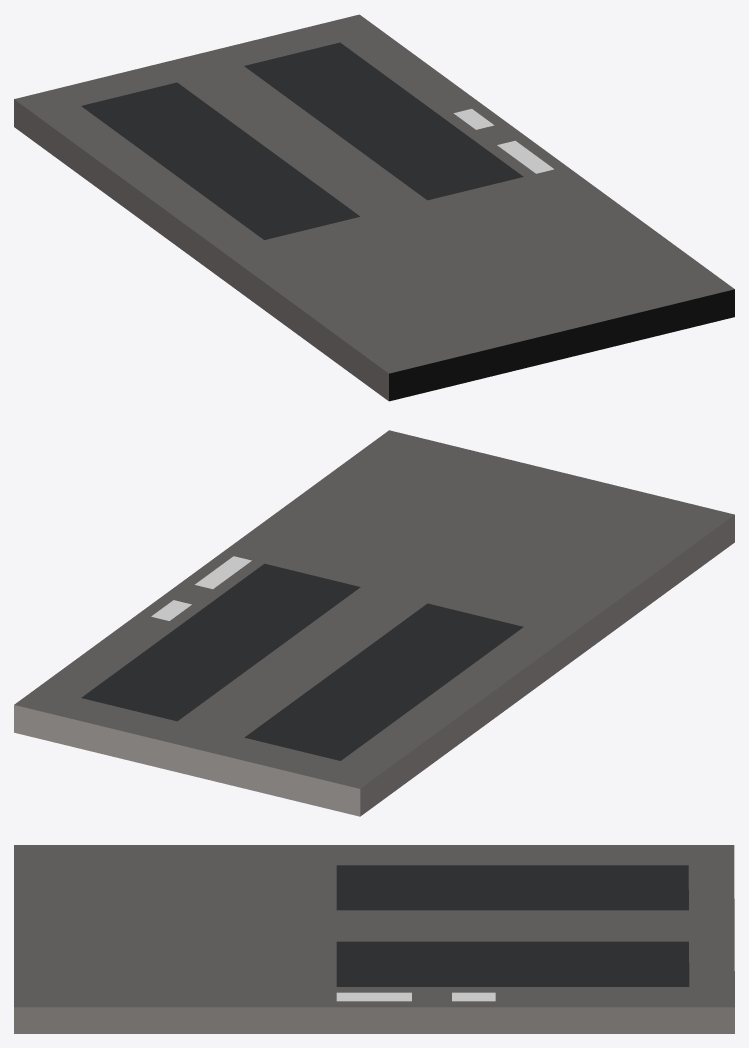
Rendered from Door.glb.
3 views of the same model, one above another, from view 1: azimuth 30°, elevation 25°; view 2: azimuth 150°, elevation 25°; view 3: azimuth 270°, elevation 25° (orthographic). The views are drawn at different scales.
Visible parts, largest first — view 1: SO_Door; view 2: SO_Door; view 3: SO_Door.
Boxes of the visible parts, x1,y1,x2,y2 form: SO_Door: (14, 14, 734, 401); SO_Door: (14, 430, 734, 816); SO_Door: (14, 845, 734, 1033).
Bounding box in the file's own units: 2 × 0.1534 × 3.75.
Materials: 1 (1 with a texture image).
